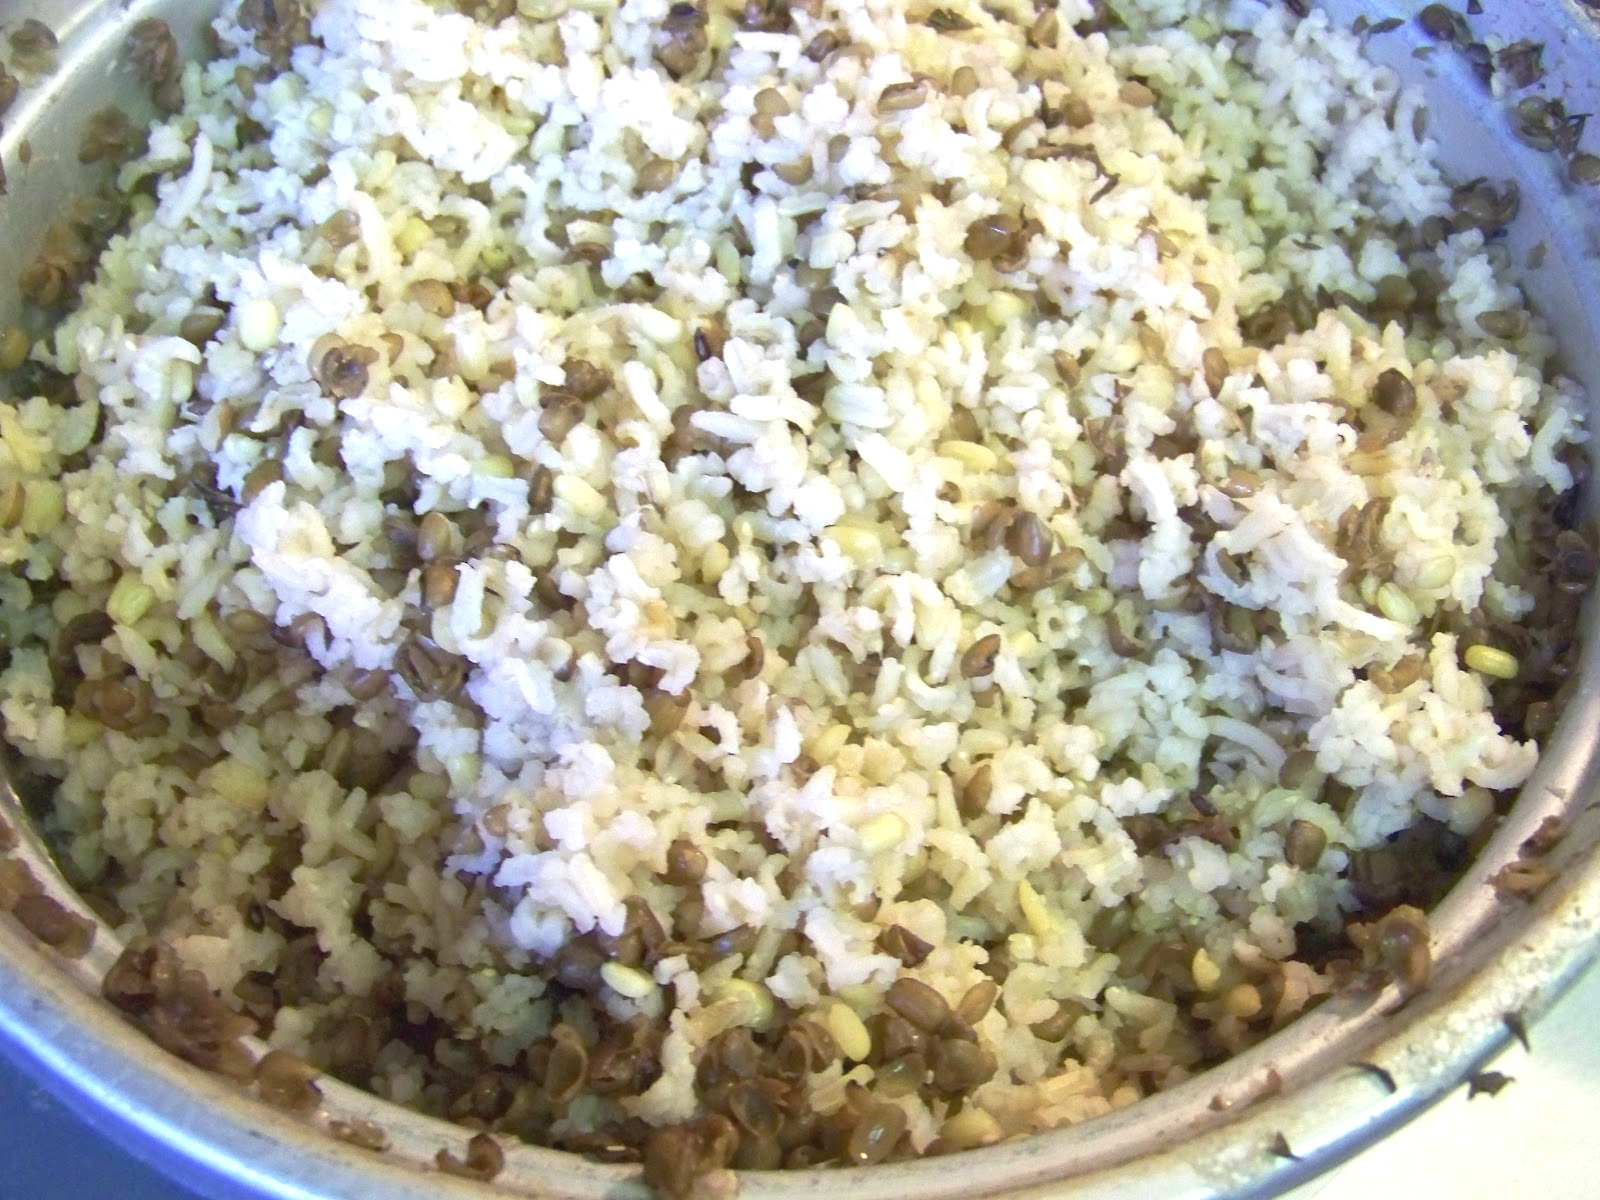kiribath: (42, 10, 1600, 1167)
